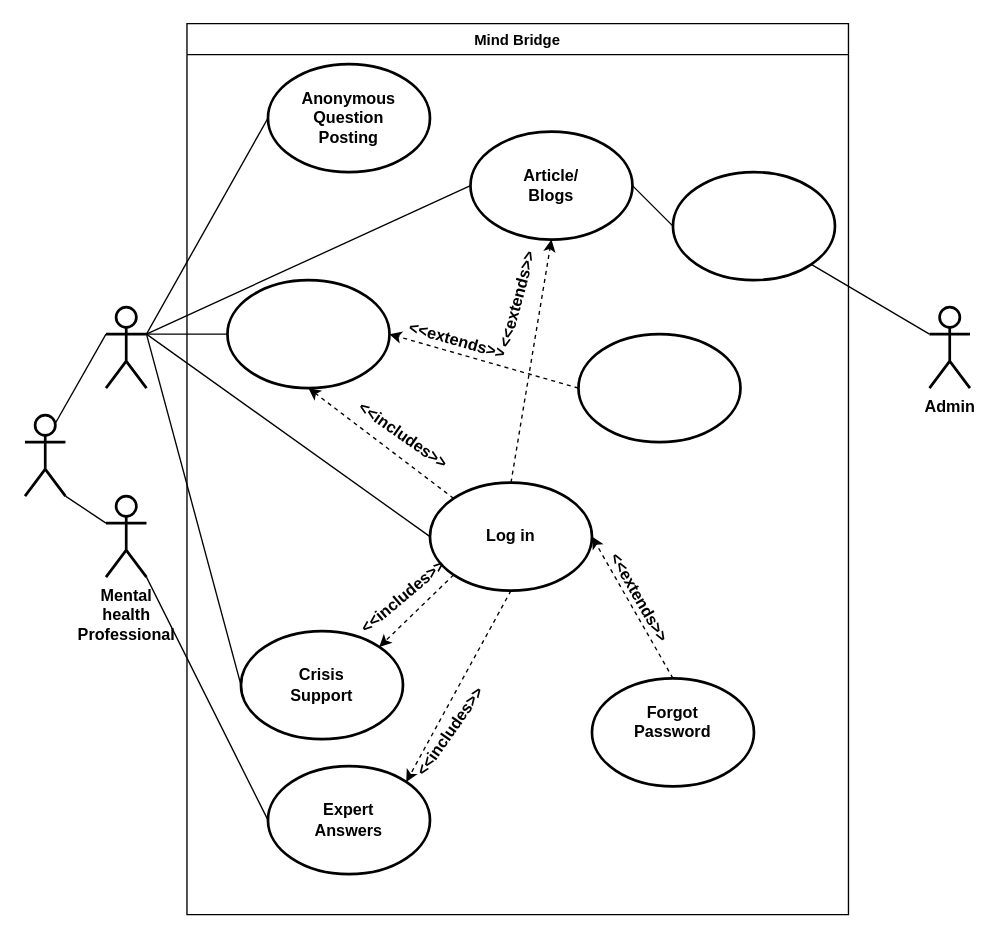
Some shapes in this 998 by 938 pixel diagram are drawn without their labels. Each missing label, with the centre of its shape:
"Community Interaction" goes at [307,333].
"Member" goes at [125,347].
"Post a message" goes at [658,387].
"User" goes at [44,455].
"Write Article/Blog" goes at [753,225].
